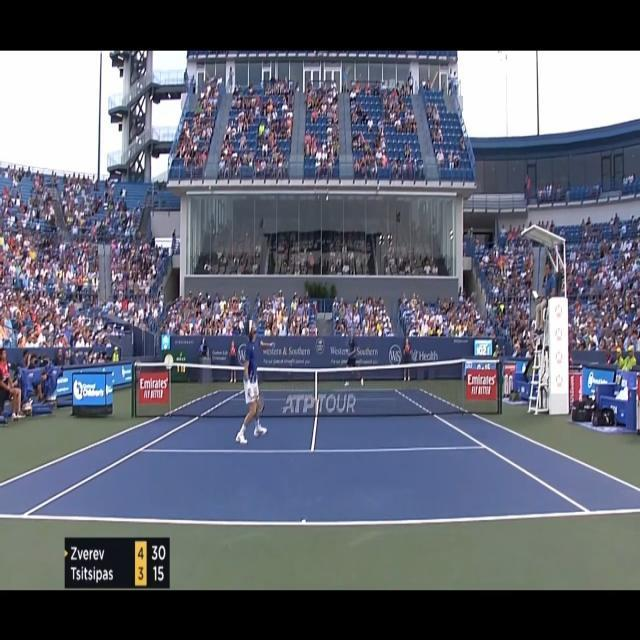court: (0, 388, 640, 528)
net: (130, 357, 503, 415)
player: (236, 318, 276, 446), (344, 330, 364, 389)
